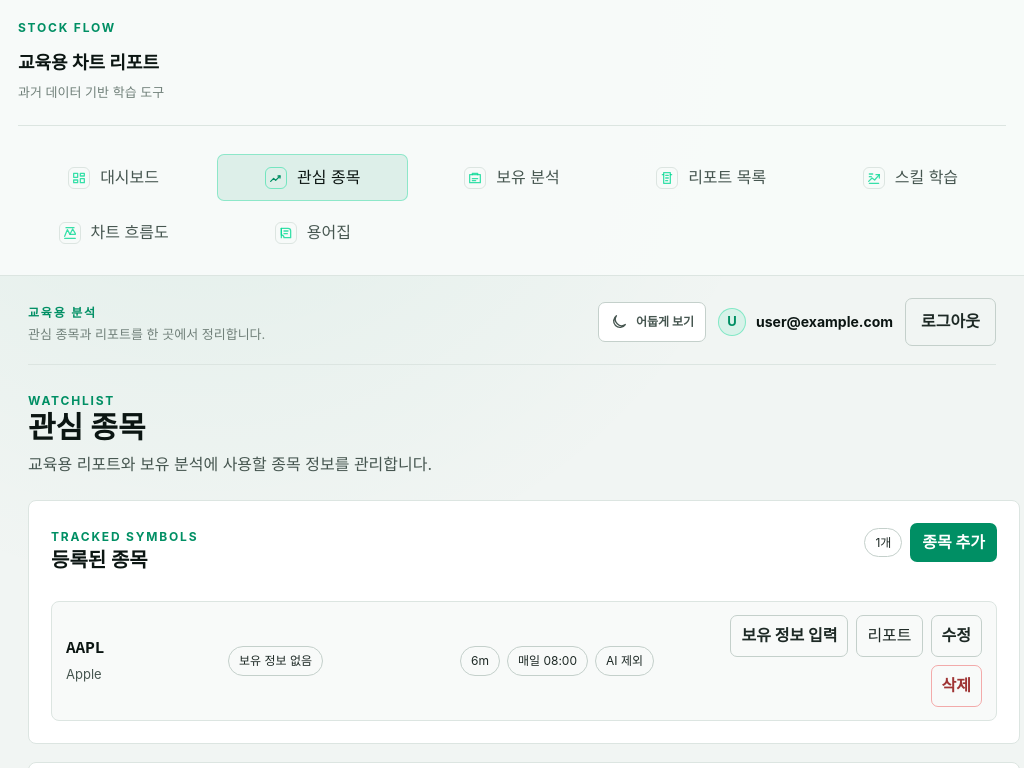
Scenario: App routing › prefills report generation from a watchlist row action
Click the link with aria-label "리포트 생성 Apple".
click(890, 636)  # box [856,615,923,657]
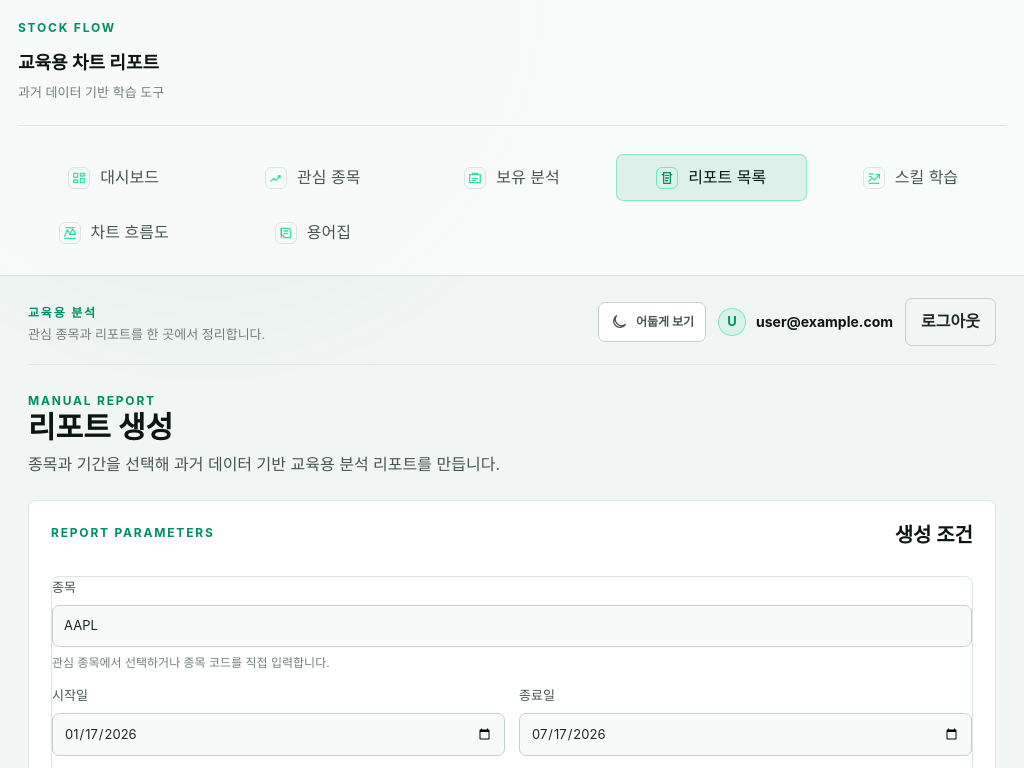
expect the field labelled "종목" holds "AAPL": met, box [52,605,972,647]
